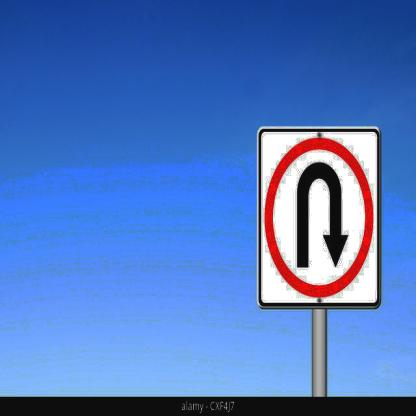U-turn: (254, 120, 381, 309)
